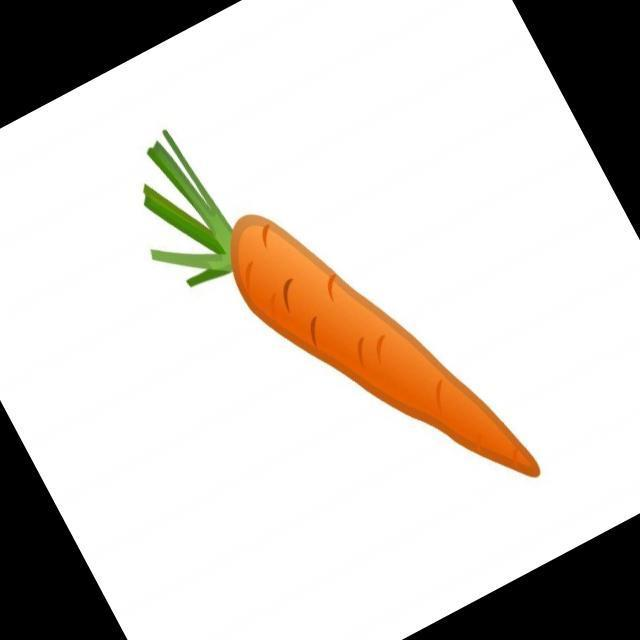Carrot: (144, 132, 540, 476)
